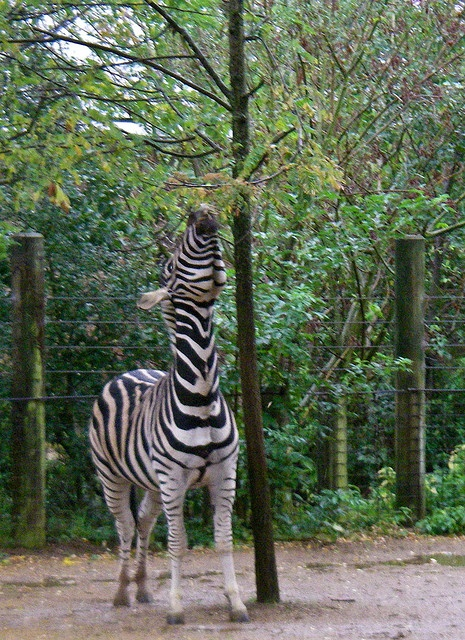zebra: (86, 203, 252, 627)
